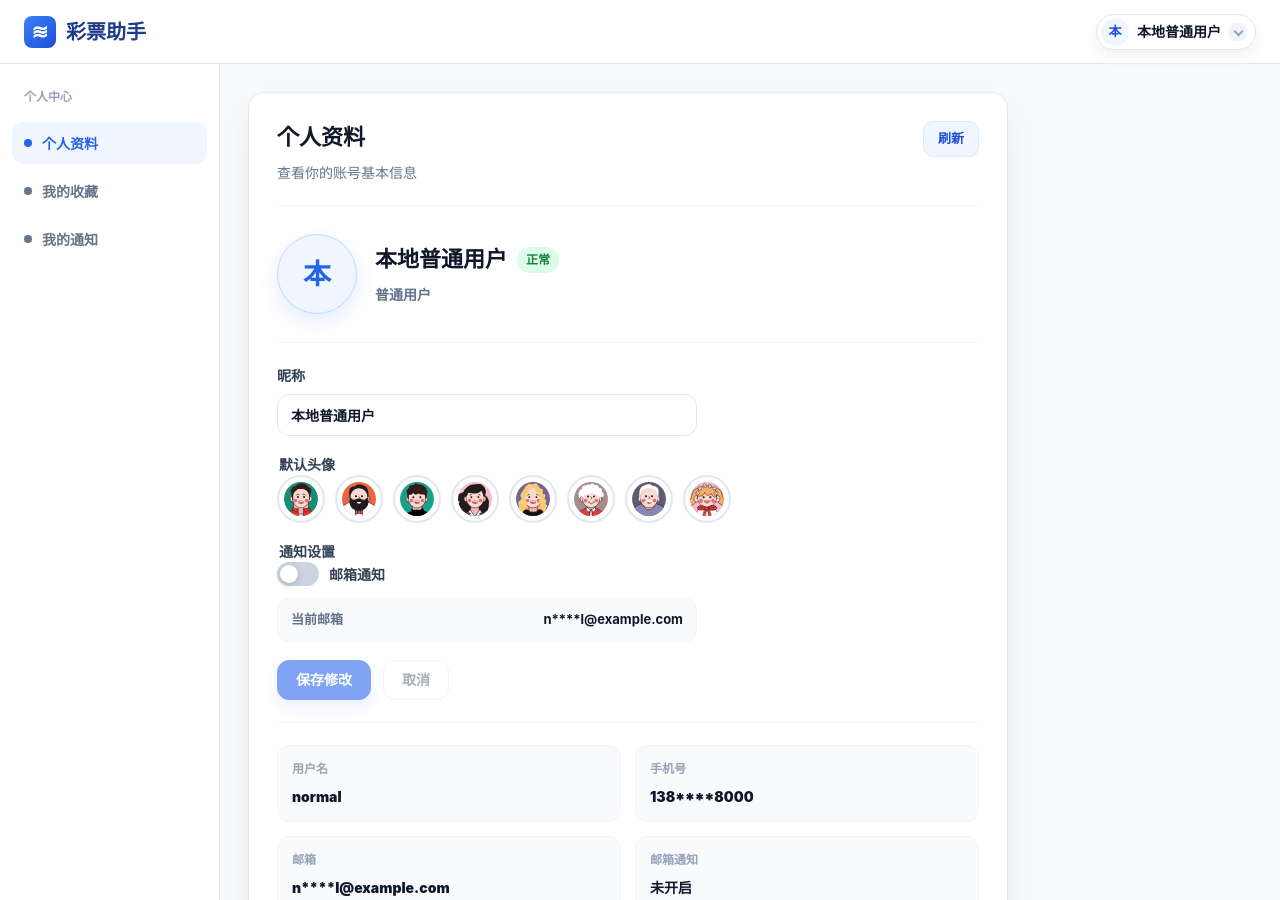
Scenario: ProfileView › saves nickname and default avatar then refreshes profile state
Replace the text in the field labelled "昵称" with "新昵称" at (487, 415), box [277,394,697,436]
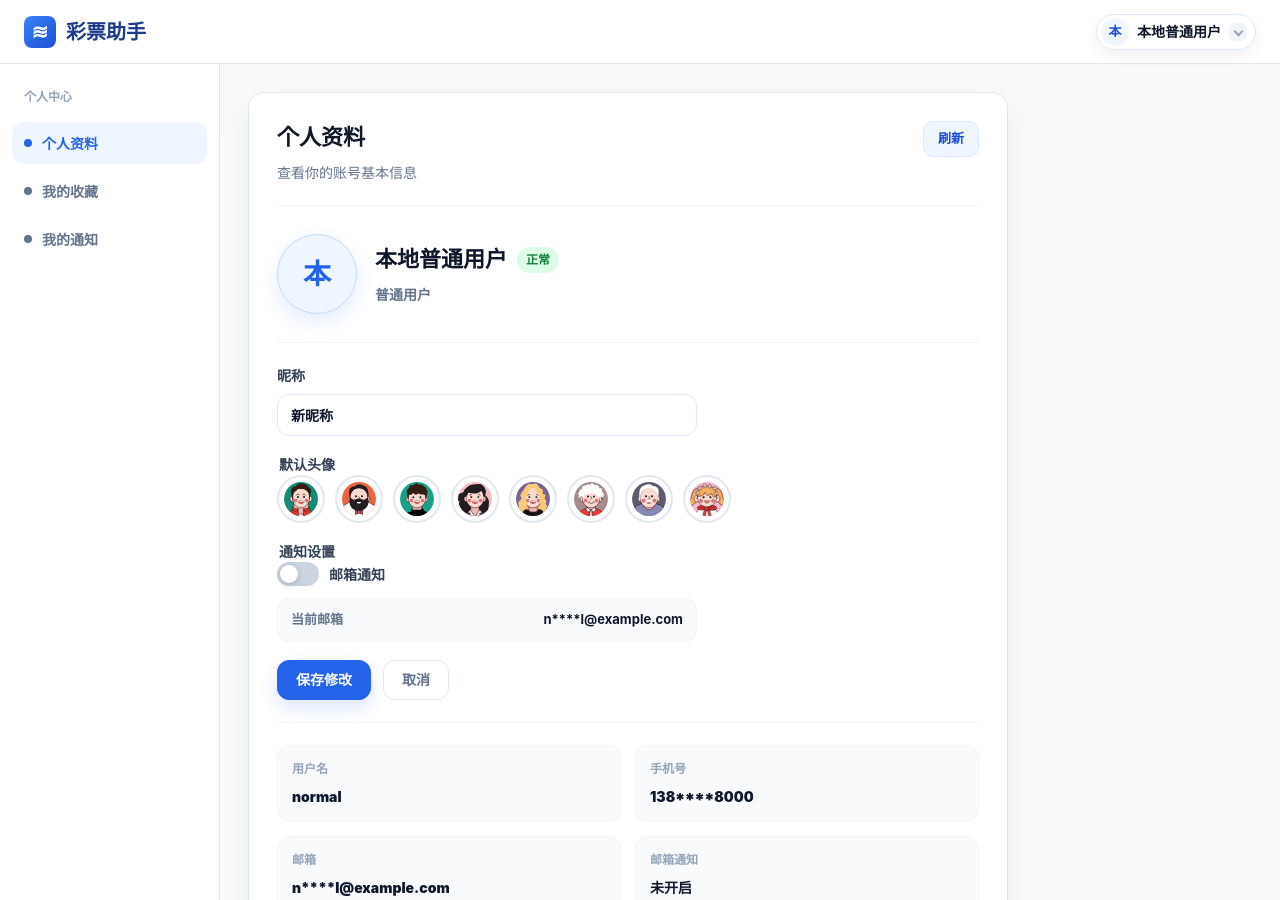
Click the 2nd button with class "profile-avatar-option" at (359, 499), box [335,475,383,523]
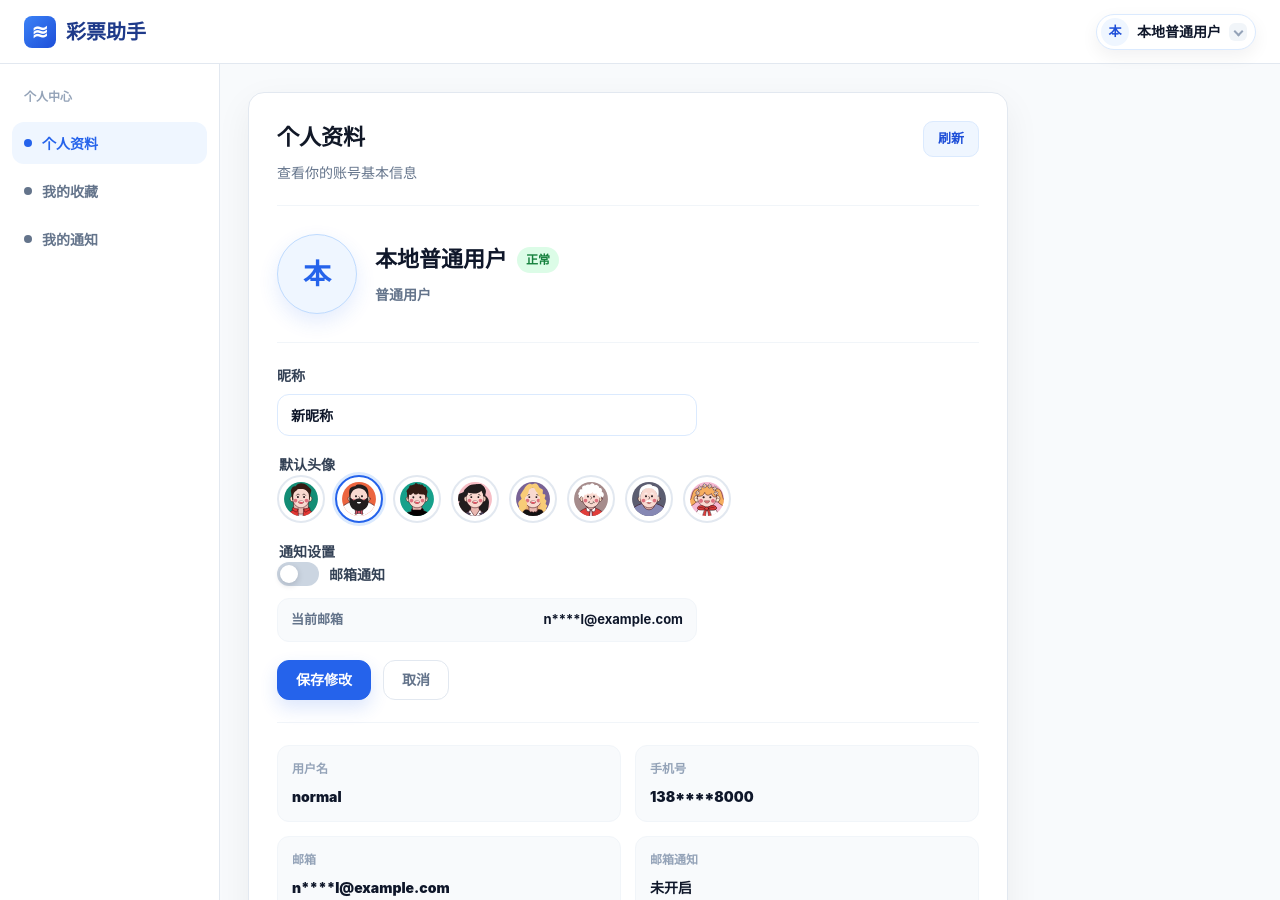
Submit the form, box [277,342,979,722]
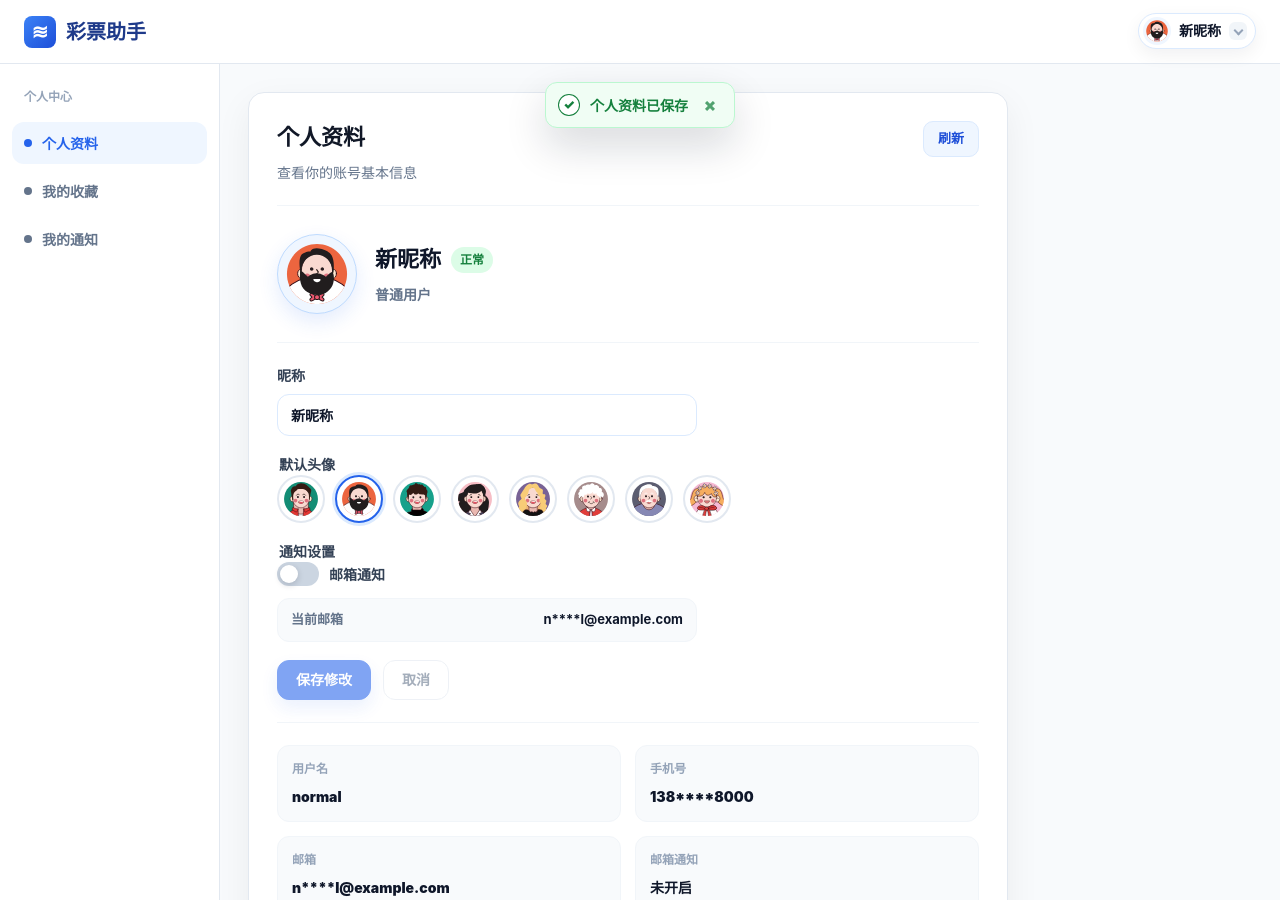
Now the text "个人资料已保存" is shown, box [590,94,688,116]
Now the button with class "account-trigger" reads "新昵称", box [1138,12,1256,48]
